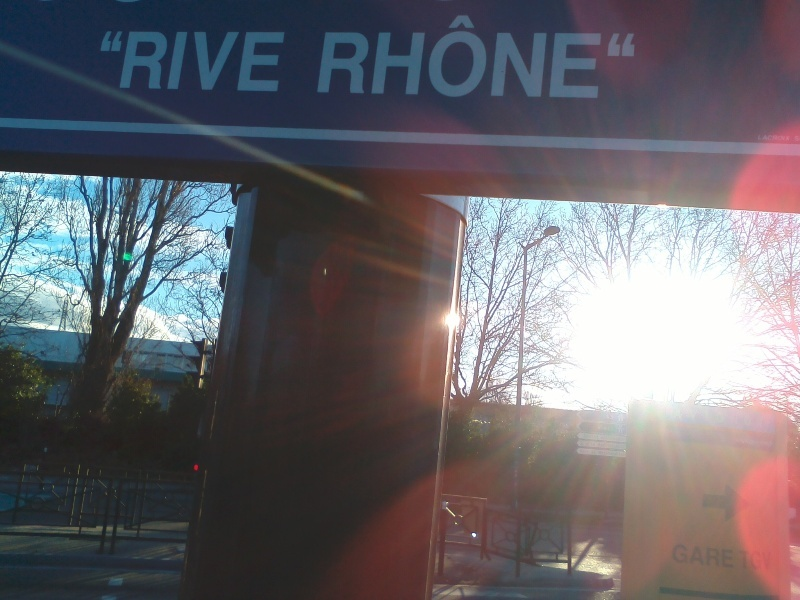text: (337, 12, 352, 102), (353, 12, 368, 102), (369, 12, 384, 102), (385, 12, 400, 102), (401, 12, 416, 102), (417, 12, 432, 102), (433, 12, 448, 102), (449, 12, 464, 102), (465, 12, 480, 102), (481, 12, 496, 102), (497, 12, 512, 102), (513, 12, 528, 102), (529, 12, 544, 102), (545, 12, 560, 102), (561, 12, 576, 102), (577, 12, 592, 102), (593, 12, 608, 102), (609, 12, 624, 102), (625, 12, 640, 102), (325, 12, 336, 102), (113, 31, 128, 93), (129, 31, 144, 93), (145, 31, 160, 93), (161, 31, 176, 93), (177, 31, 192, 93), (193, 31, 208, 93), (209, 31, 224, 93), (225, 31, 240, 93), (241, 31, 256, 93), (257, 31, 272, 93), (99, 31, 112, 93), (273, 31, 286, 93), (673, 543, 688, 570), (689, 543, 704, 570), (705, 543, 720, 570), (721, 543, 734, 570), (753, 551, 768, 572), (739, 551, 752, 572), (737, 438, 752, 449), (753, 438, 768, 449), (769, 134, 784, 142), (593, 435, 608, 442), (609, 435, 623, 442), (641, 12, 642, 102), (769, 551, 773, 572), (609, 444, 625, 449), (758, 134, 768, 142), (609, 452, 624, 456), (584, 435, 592, 442), (785, 134, 792, 142), (769, 438, 774, 449), (598, 444, 608, 449), (599, 426, 608, 431), (794, 135, 800, 142), (580, 450, 592, 453), (599, 452, 608, 456), (609, 415, 614, 420), (734, 438, 736, 449), (609, 426, 613, 431), (593, 442, 595, 447), (593, 451, 596, 454), (591, 442, 592, 447), (607, 415, 608, 420)
